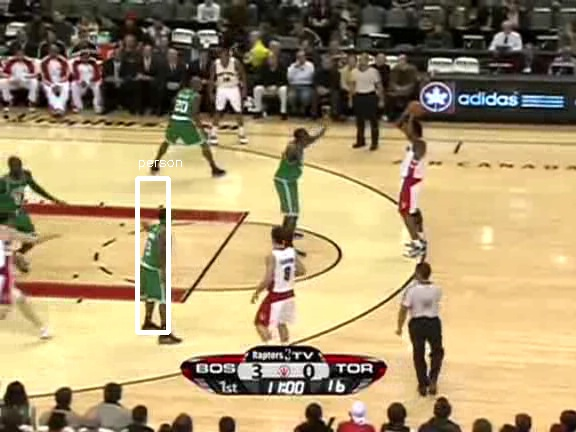person: (140, 225, 174, 306), (139, 225, 173, 306), (141, 225, 175, 306), (140, 224, 174, 305), (140, 226, 174, 307)
target_negative: (243, 159, 472, 314), (76, 383, 293, 408), (505, 35, 535, 209), (315, 208, 512, 219), (515, 199, 519, 399), (463, 153, 491, 170)
